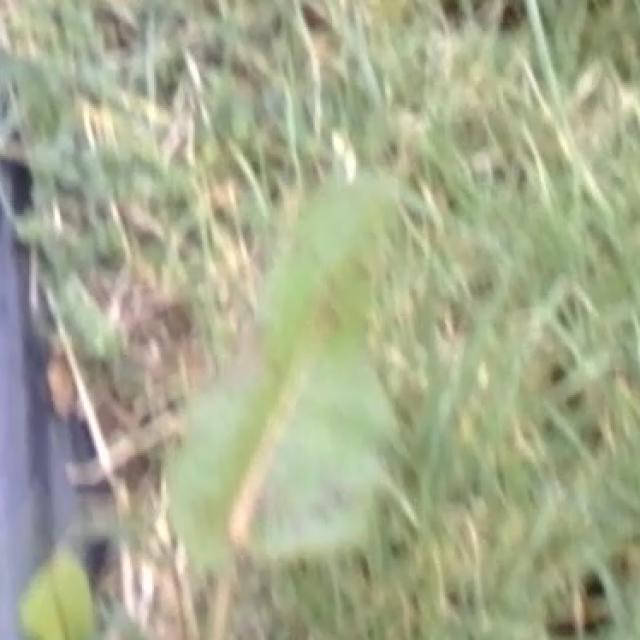organic waste: (70, 157, 430, 613)
